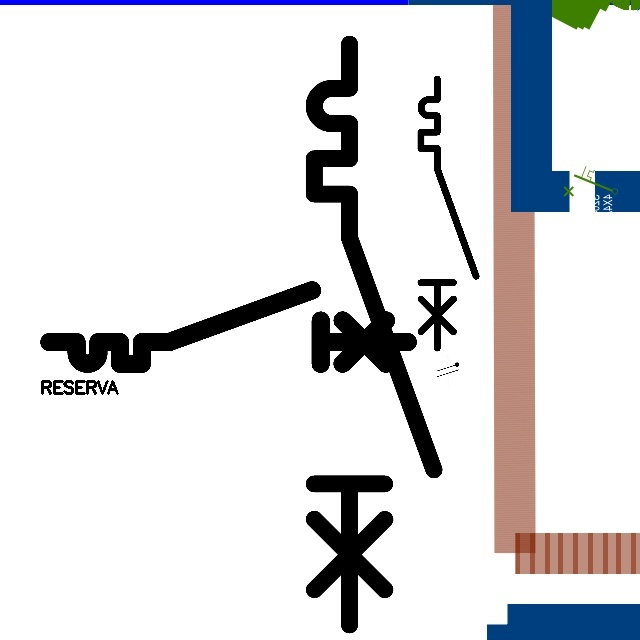interruptor_termomagnetico: (299, 29, 448, 640), (40, 281, 417, 373), (414, 72, 483, 355)
